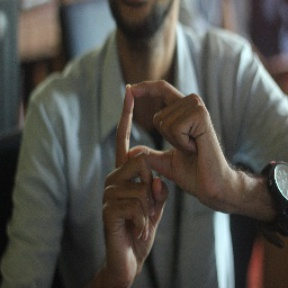D: (101, 75, 215, 186)
